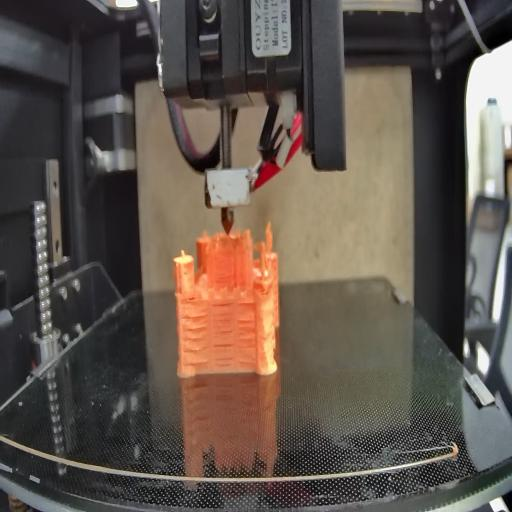cracks: (181, 312, 209, 368), (237, 317, 256, 364), (212, 302, 233, 336), (213, 343, 234, 368), (184, 290, 198, 304), (239, 296, 254, 307)
